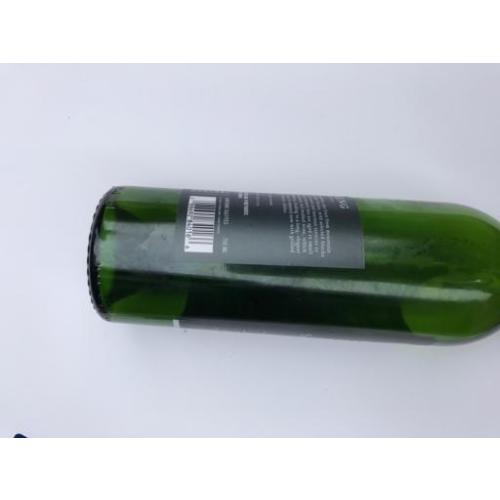glass: (92, 184, 500, 340)
